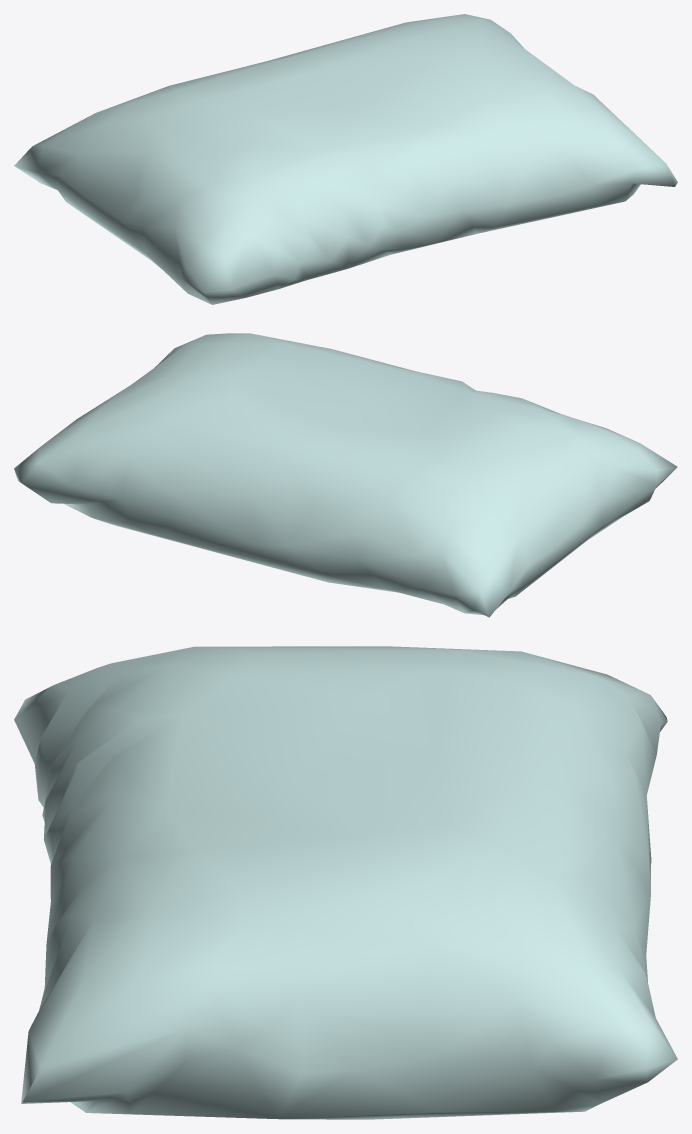
The model's file is SM_Bed_01c.fbx.
3 renders of one model, top to bottom at view 1: azimuth 30°, elevation 25°; view 2: azimuth 150°, elevation 25°; view 3: azimuth 270°, elevation 25°, orthographic. The views are drawn at different scales.
Parts seen in each view (by area): view 1: SM_Bed_01c; view 2: SM_Bed_01c; view 3: SM_Bed_01c.
Boxes of the visible parts, bbox=[...] form: SM_Bed_01c: bbox=[14, 14, 677, 304]; SM_Bed_01c: bbox=[14, 333, 677, 617]; SM_Bed_01c: bbox=[14, 646, 677, 1119].
Size of the model in its own units: 66.85 by 14.91 by 47.28.
